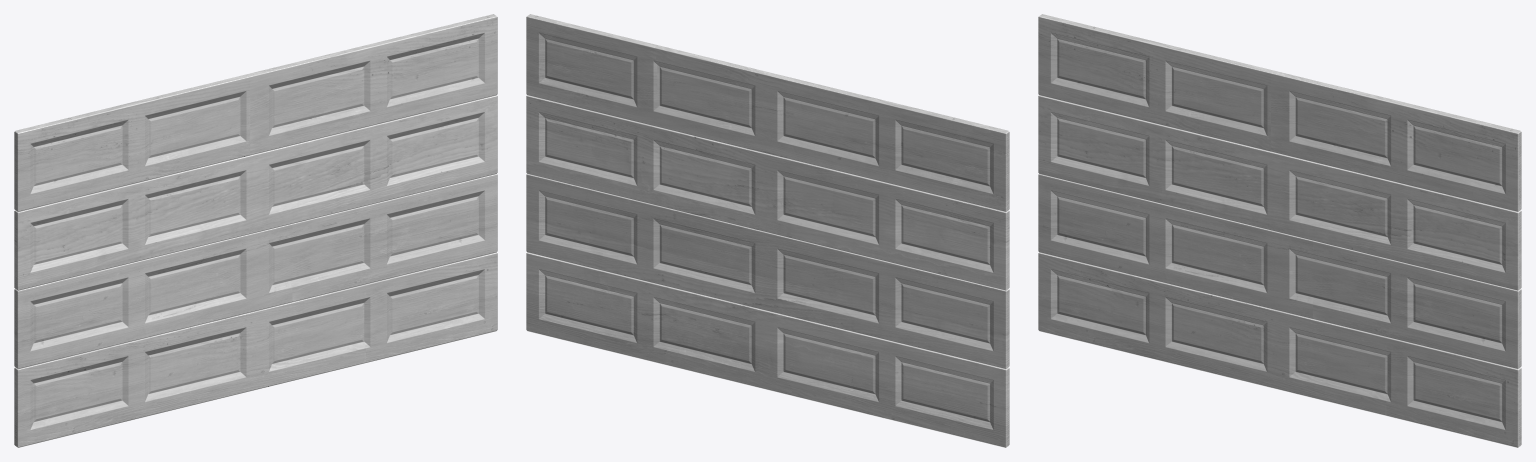
Rendered from Door_Garage_A.fbx.
3 views of the same model, side by side, from view 1: azimuth 30°, elevation 25°; view 2: azimuth 150°, elevation 25°; view 3: azimuth 330°, elevation 25° (orthographic).
Visible parts, largest first — view 1: Door_Garage_A; view 2: Door_Garage_A; view 3: Door_Garage_A.
Boxes of the visible parts, x1,y1,x2,y2 form: Door_Garage_A: (14,14,497,447); Door_Garage_A: (526,14,1009,447); Door_Garage_A: (1038,14,1521,447).
Size of the model in its own units: 381 by 239 by 4.7.
